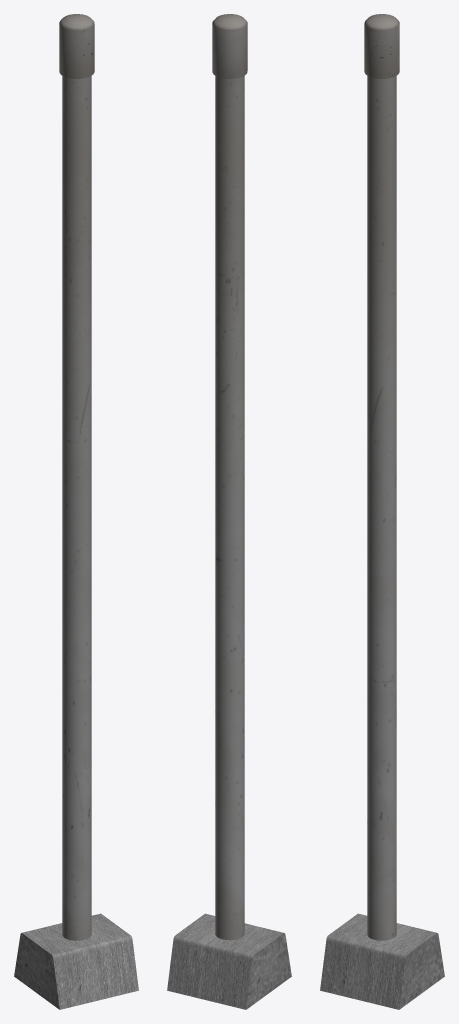
The model's file is chain_singkepost_curb.fbx.
3 views of the same model, side by side, from view 1: azimuth 30°, elevation 25°; view 2: azimuth 150°, elevation 25°; view 3: azimuth 330°, elevation 25° (orthographic).
Visible parts, largest first — view 1: chain_singkepost_curb; view 2: chain_singkepost_curb; view 3: chain_singkepost_curb.
Part boxes in pixels (left/top/right/bottom): chain_singkepost_curb: left=14, top=14, right=138, bottom=1009; chain_singkepost_curb: left=167, top=14, right=291, bottom=1009; chain_singkepost_curb: left=320, top=14, right=444, bottom=1009.
Bounding box in the file's own units: 0.2 × 2.33 × 0.2.
1 material, 1 textured.
